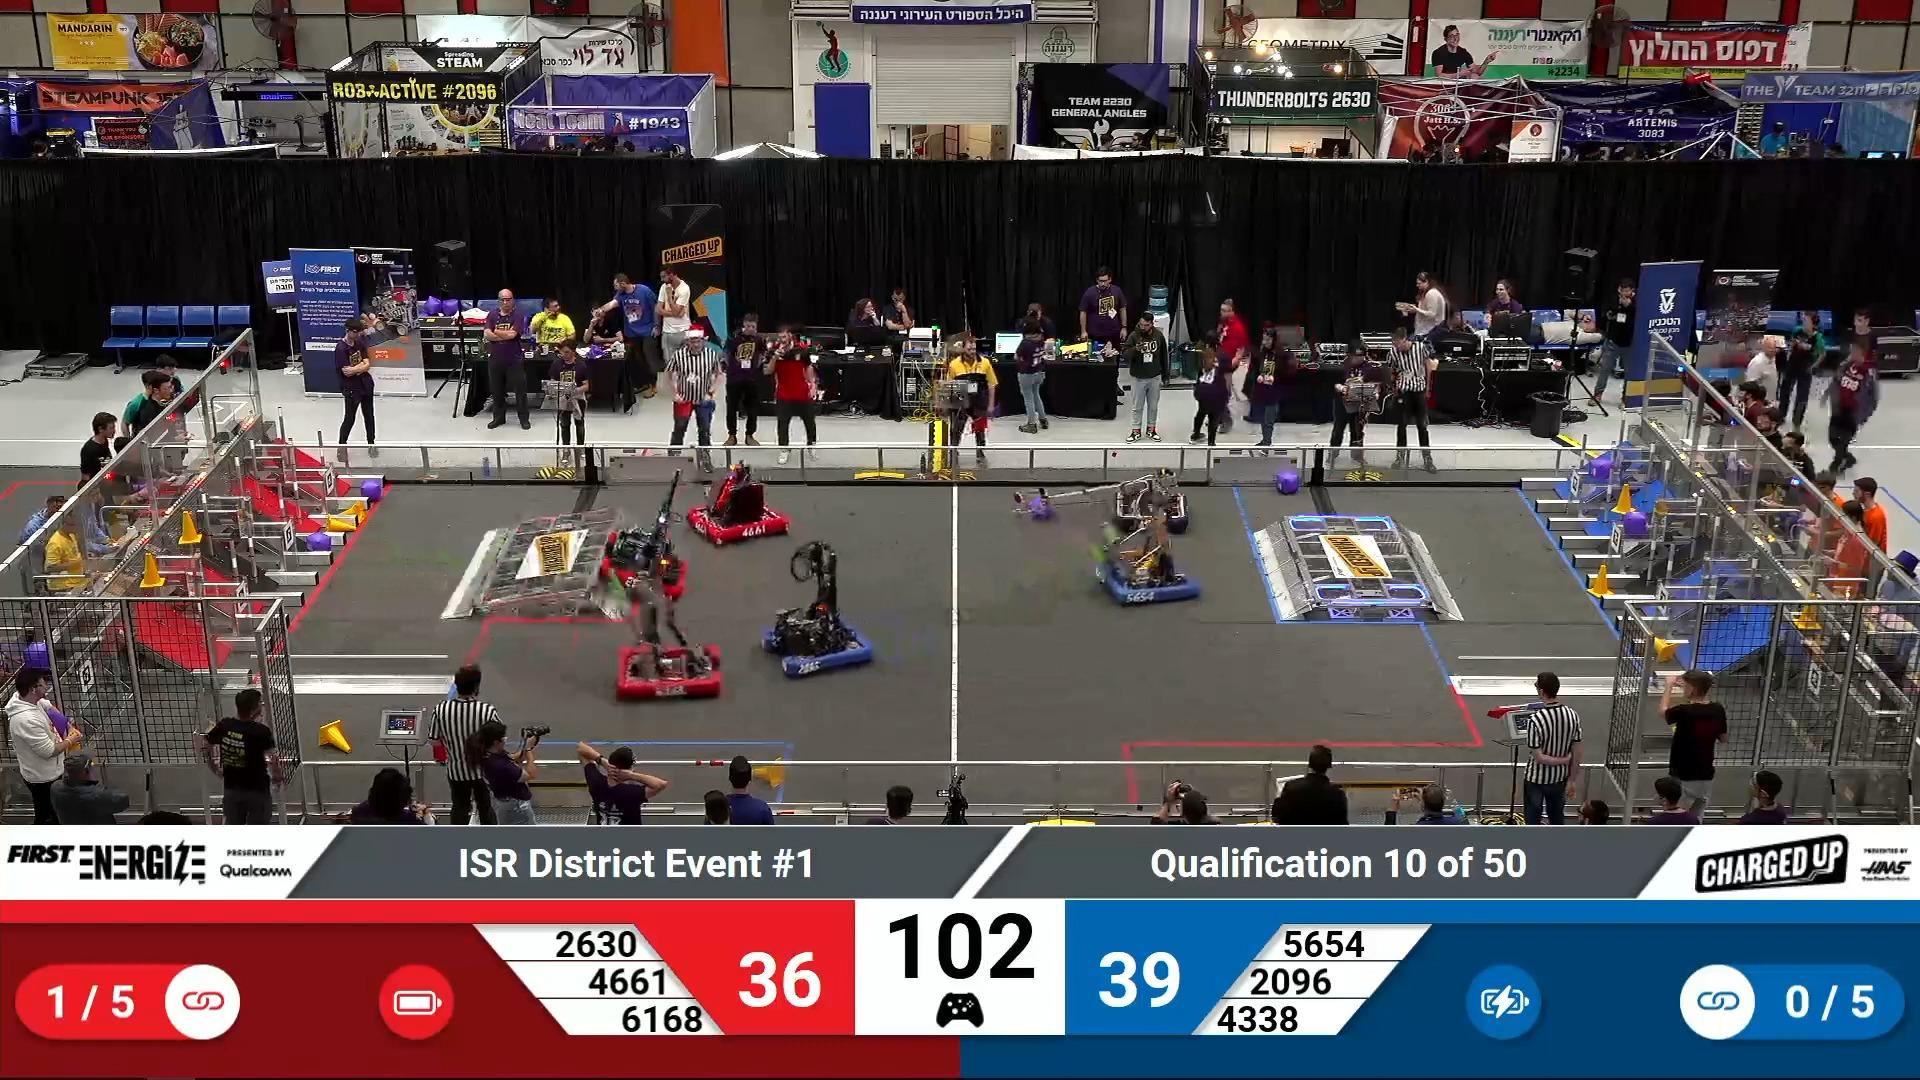robot: (761, 551, 870, 676), (1091, 530, 1203, 617), (612, 624, 728, 704), (684, 468, 791, 550), (604, 526, 692, 605), (1101, 468, 1193, 530)
